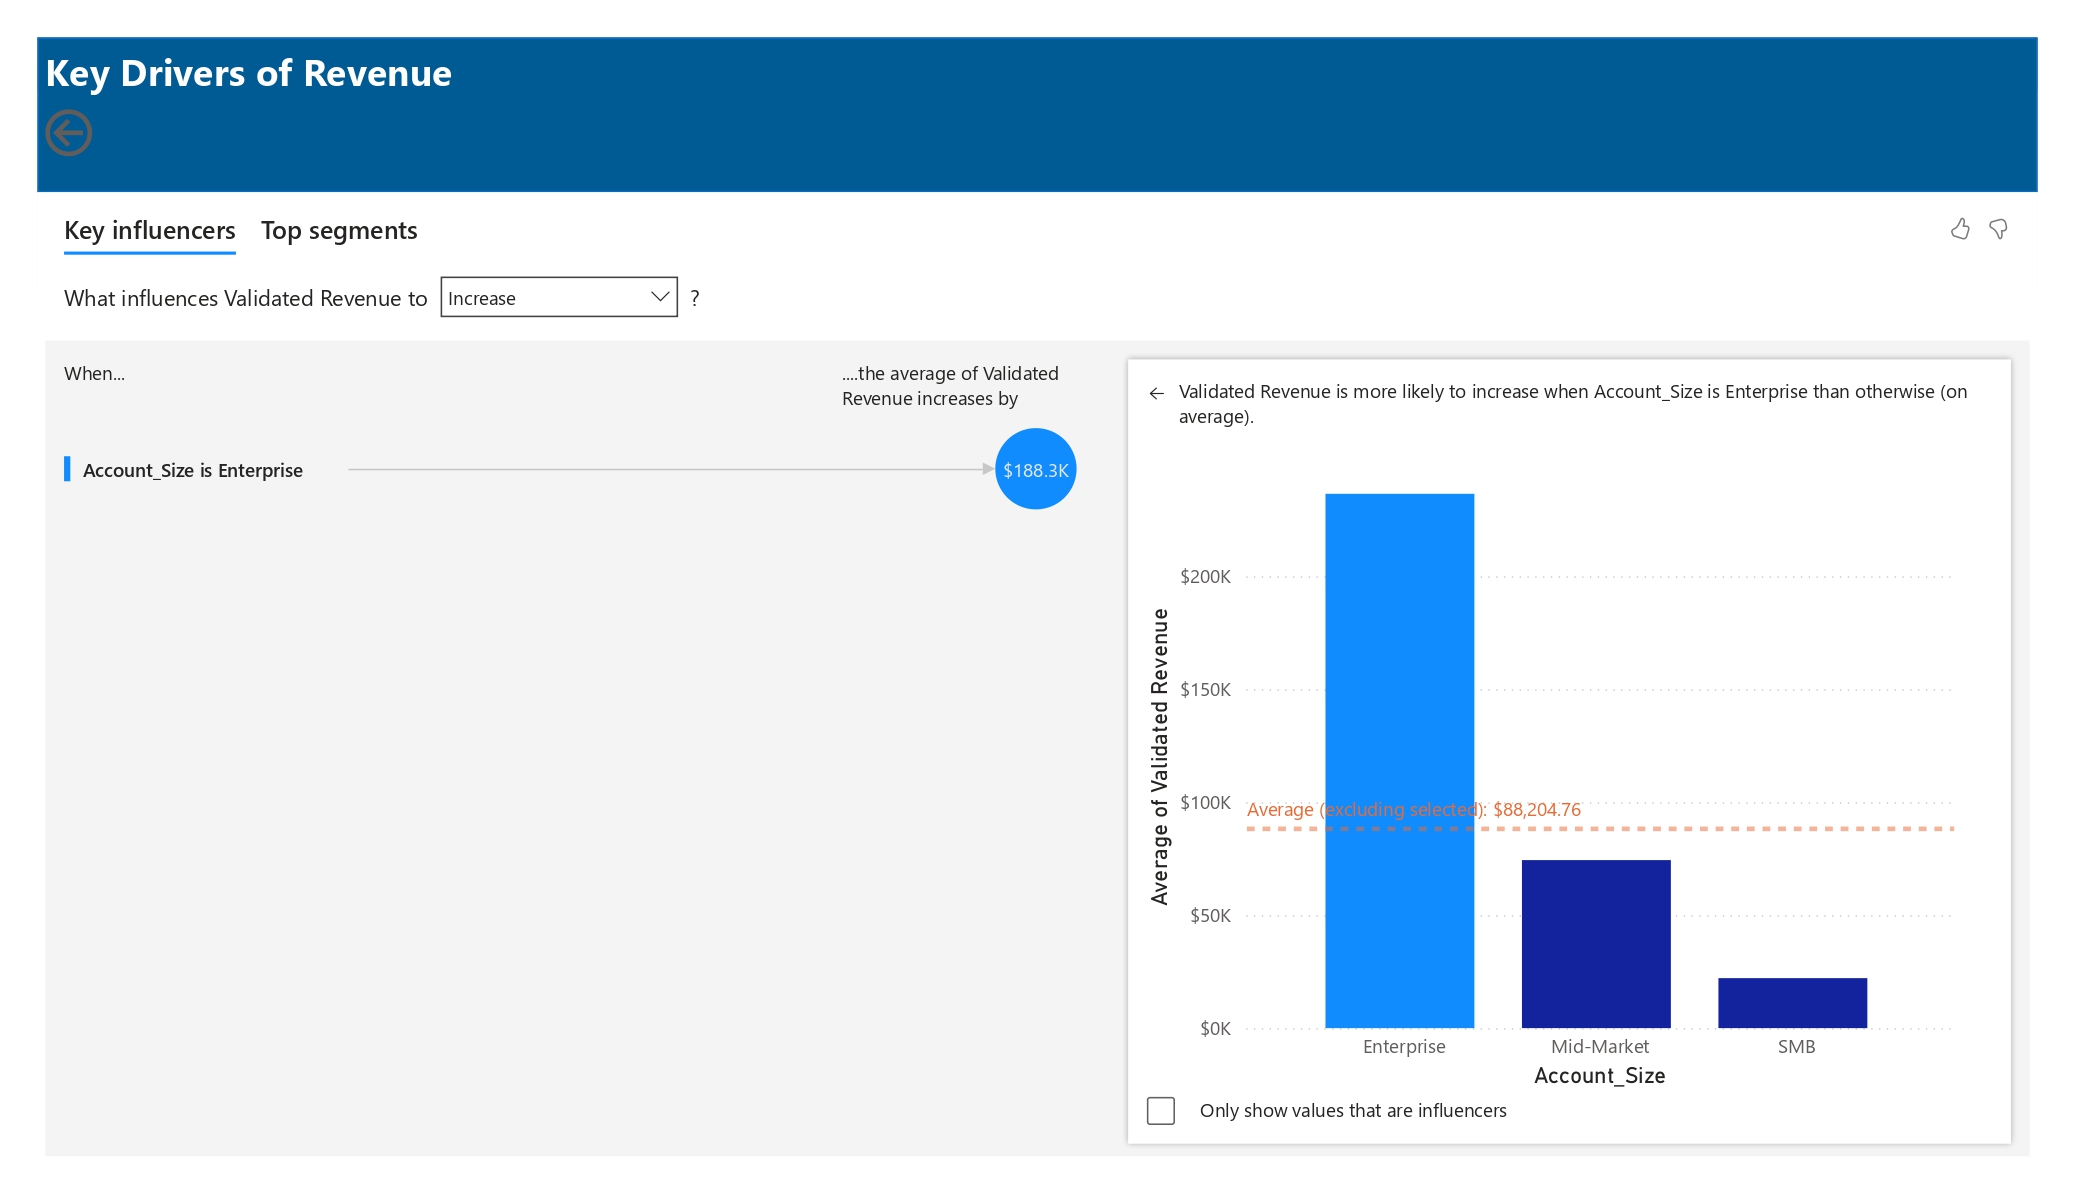

What the dashboard file says about the page in this screenshot:
{"tool":"powerbi","page":{"name":"Drivers of Win Rate","canvas":[1280,720],"ordinal":5},"visuals":[{"type":"shape","box":[0,0,1280.1,99.2],"z":0},{"type":"textbox","box":[0,0,769.4,45.5],"z":1000},{"type":"actionButton","box":[0,40.7,99.2,40.7],"z":2000},{"type":"keyDriversVisual","fields":{"Target":["DAX_Measures.Validated Revenue"],"ExplainBy":["dim_campaign.Campaign_Type","dim_campaign.Campaign_Name","dim_account.Account_Size","dim_account.Industry","dim_sales_rep.Region","dim_account.Country","dim_sales_rep.Skill_Level"]},"box":[0,99.2,1280.1,621.3],"z":3000}]}

Visuals, with their boxes on the page's 1280x720 design canvas (x1, y1, x2, y2). These are canvas units, not pixel positions in the 2075x1200 screenshot, which may show the page scaled, cropped or inside an application window:
shape: <bbox>0, 0, 1280, 99</bbox>
textbox: <bbox>0, 0, 769, 46</bbox>
actionButton: <bbox>0, 41, 99, 81</bbox>
keyDriversVisual - DAX_Measures.Validated Revenue x dim_campaign.Campaign_Type: <bbox>0, 99, 1280, 720</bbox>
